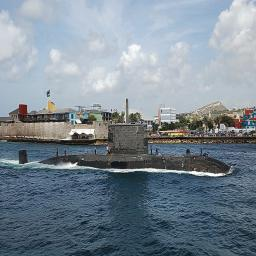submarine: (20, 99, 235, 177)
